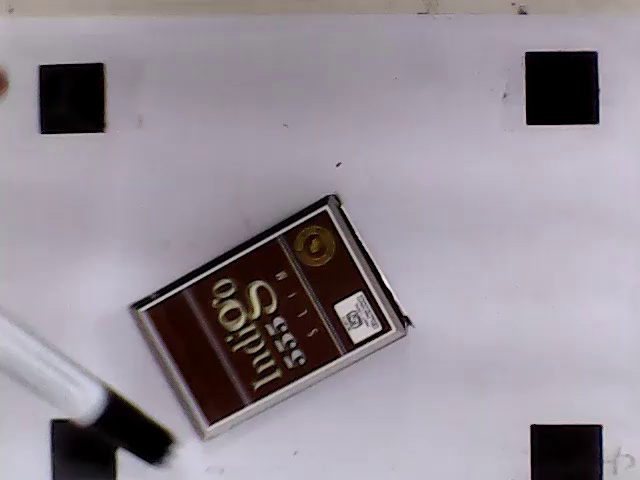BEX: (142, 208, 394, 428)
